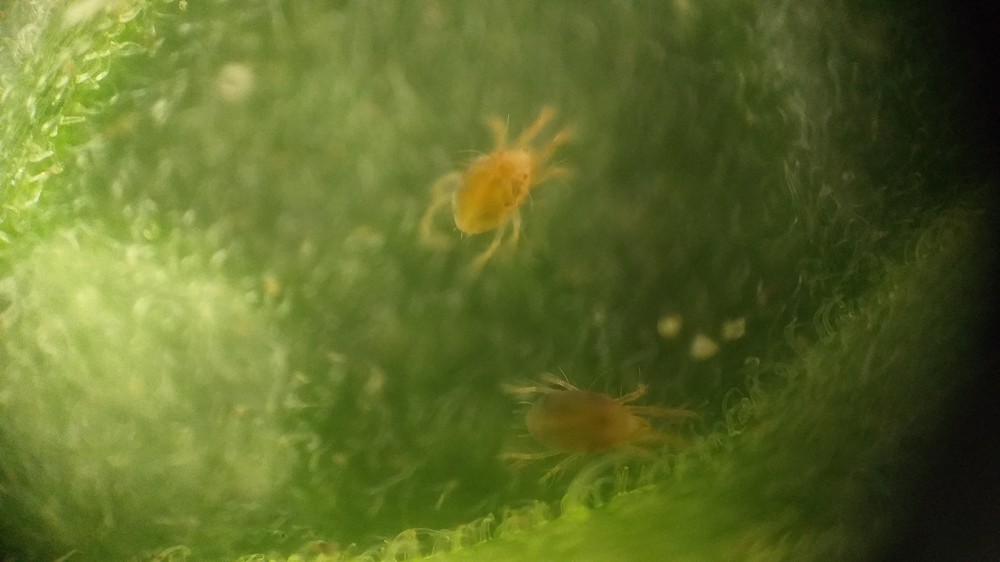Aracnido Rojo: (405, 90, 592, 265), (489, 350, 716, 490)
